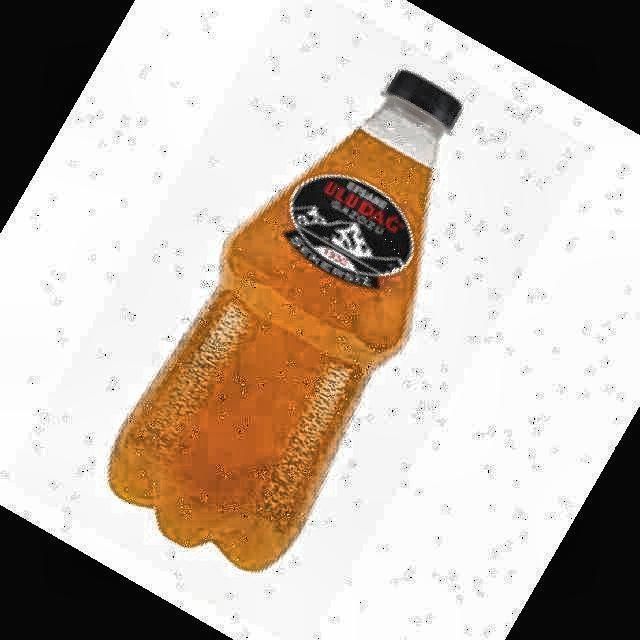plastic: (110, 71, 460, 569)
